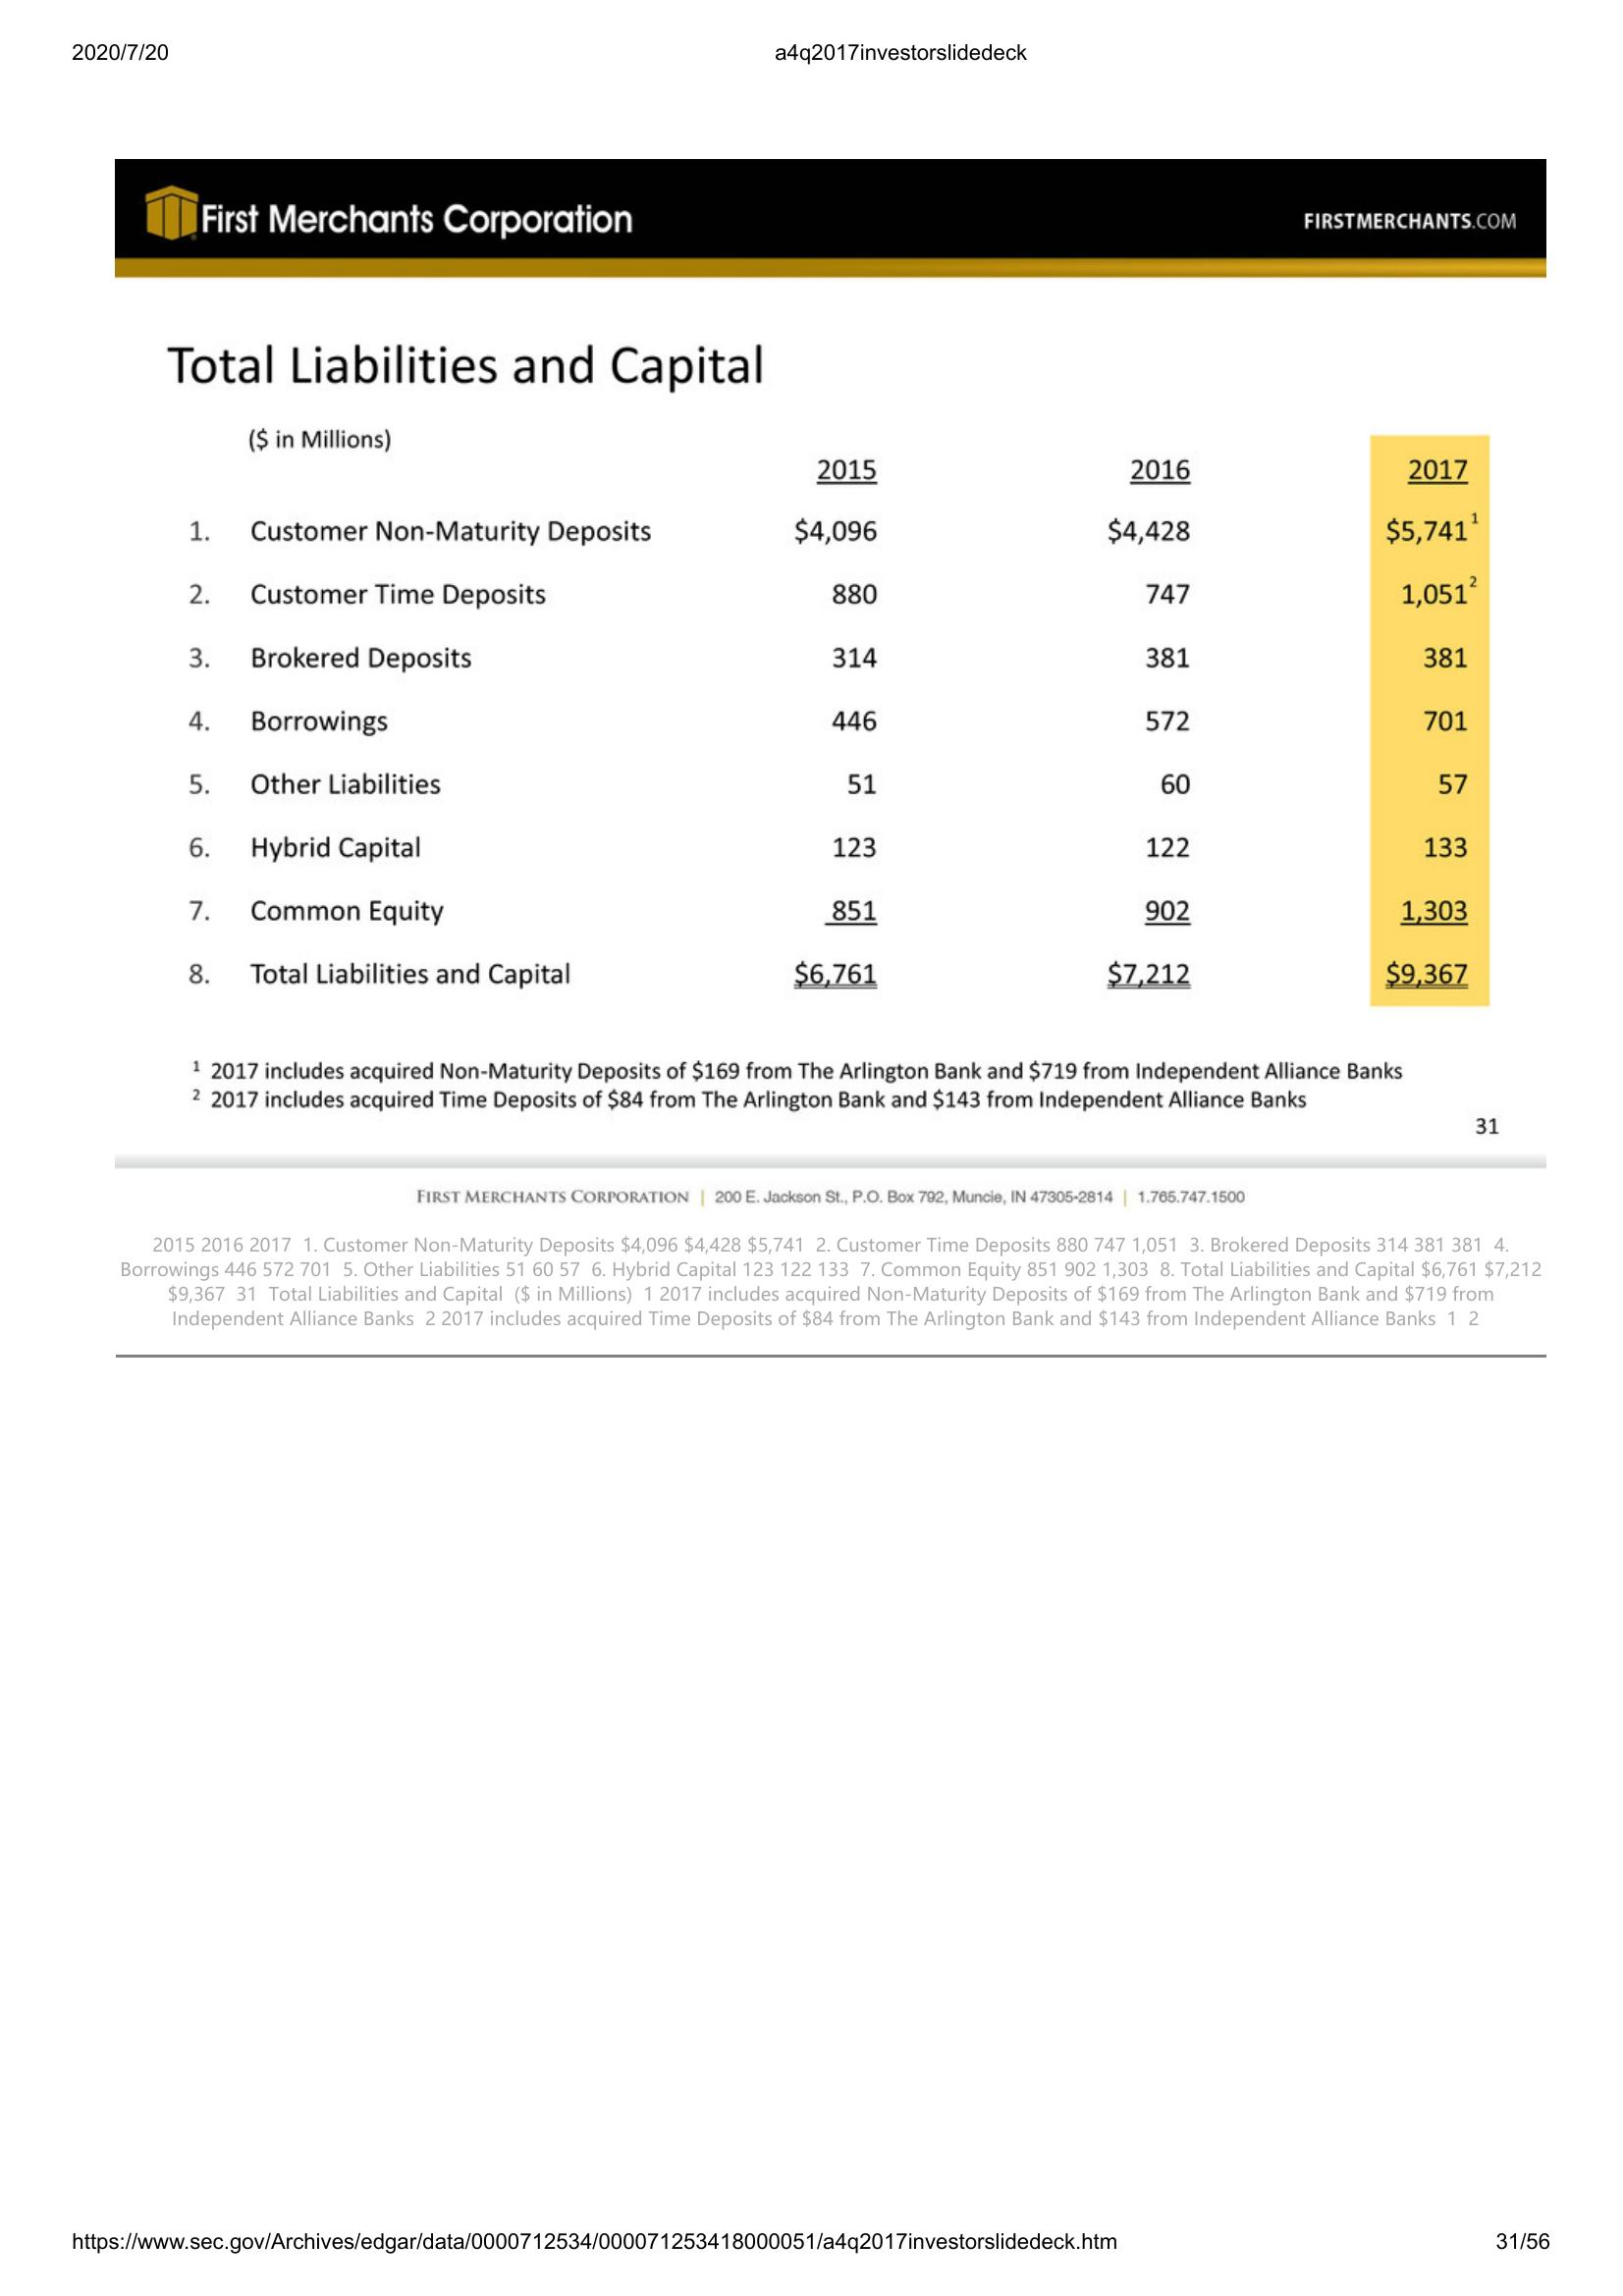table: (165, 337, 1500, 1013)
